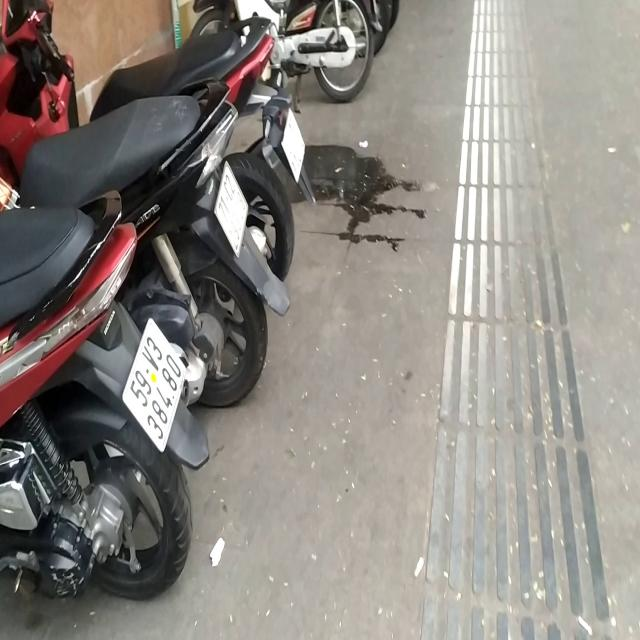bien_trang: (118, 323, 188, 450)
